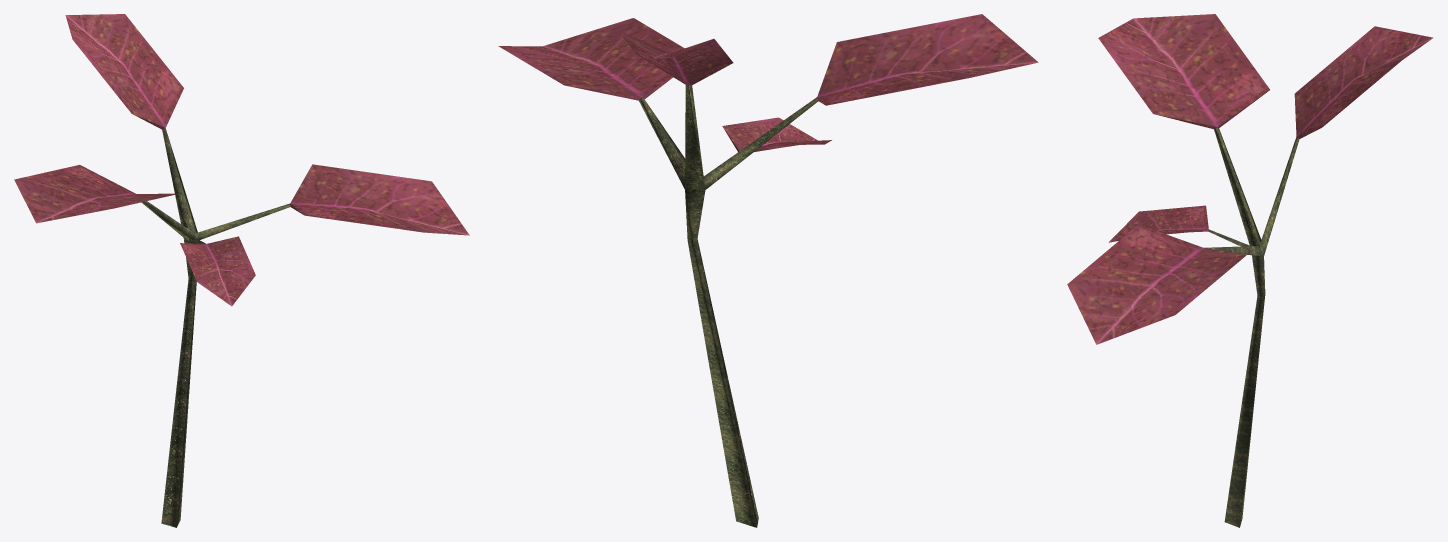
Rendered from leaf_smallflora_a2_l1.fbx.
The picture shows the model from 3 angles, left to right: view 1: azimuth 30°, elevation 25°; view 2: azimuth 150°, elevation 25°; view 3: azimuth 270°, elevation 25°; orthographic projection. The views are drawn at different scales.
Parts seen in each view (by area): view 1: mesh_node; view 2: mesh_node; view 3: mesh_node.
Boxes of the visible parts, x1,y1,x2,y2 form: mesh_node: (14,14,469,527); mesh_node: (498,14,1038,527); mesh_node: (1067,14,1433,527).
Size of the model in its own units: 1.18 by 1.2 by 0.8358.
2 materials, 2 textured.
